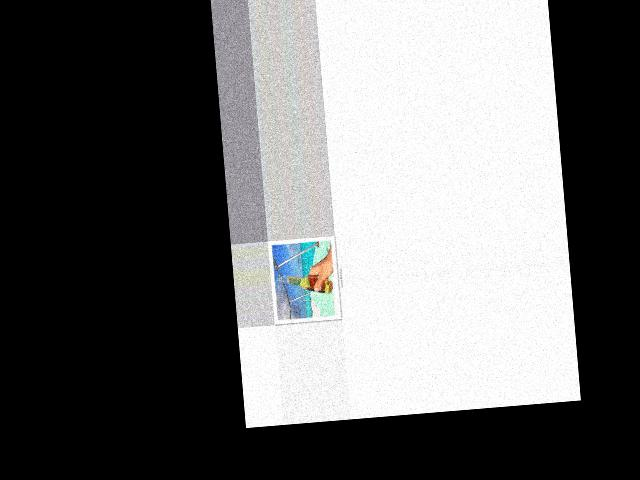beer: (277, 269, 333, 298)
